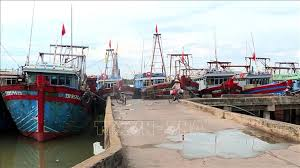tau_dansu: (3, 34, 93, 133), (239, 48, 286, 103), (137, 52, 180, 100), (199, 55, 239, 101)
